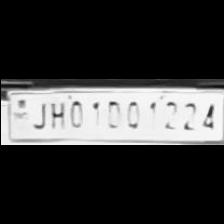0: (65, 96, 85, 130)
1: (143, 98, 159, 132), (86, 98, 102, 130)
2: (158, 96, 178, 132), (178, 98, 196, 132)
4: (198, 99, 218, 131)
H: (44, 97, 66, 128)
J: (27, 98, 45, 130)
